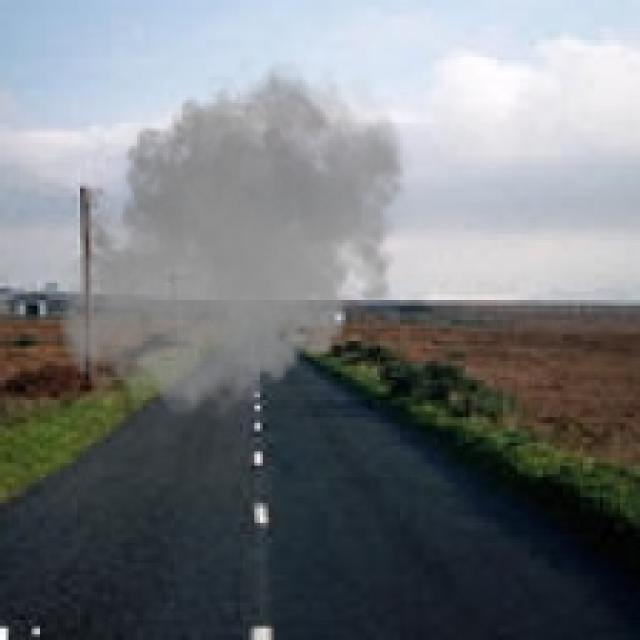Smoke: (54, 48, 417, 426)
